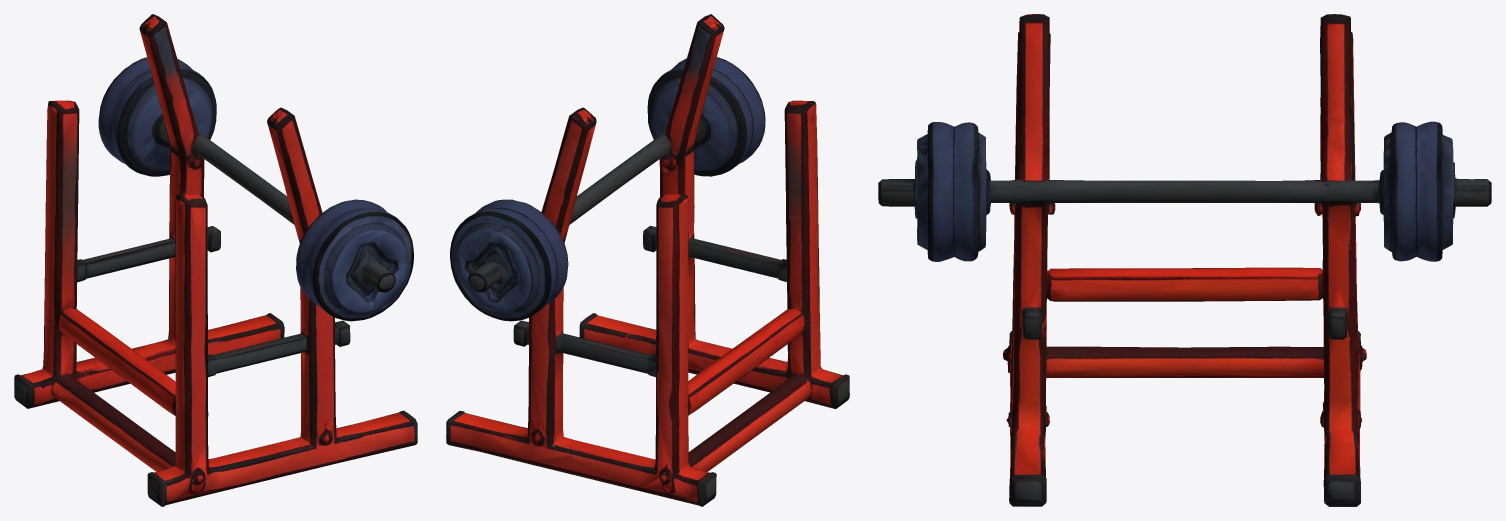
Rendered from squat-rack.glb.
3 views of the same model, side by side, from view 1: azimuth 30°, elevation 25°; view 2: azimuth 150°, elevation 25°; view 3: azimuth 270°, elevation 25° (orthographic). The views are drawn at different scales.
Parts seen in each view (by area): view 1: tripo_node_ce8cd1c8-dbb4-4737-8277-9ef3d8678fc3; view 2: tripo_node_ce8cd1c8-dbb4-4737-8277-9ef3d8678fc3; view 3: tripo_node_ce8cd1c8-dbb4-4737-8277-9ef3d8678fc3.
Part boxes in pixels (x1,y1,x2,y2): tripo_node_ce8cd1c8-dbb4-4737-8277-9ef3d8678fc3: (14, 14, 417, 506); tripo_node_ce8cd1c8-dbb4-4737-8277-9ef3d8678fc3: (446, 14, 849, 506); tripo_node_ce8cd1c8-dbb4-4737-8277-9ef3d8678fc3: (878, 14, 1491, 506).
Bounding box in the file's own units: 0.5806 × 0.76 × 0.9997.
Materials: 1 (1 with a texture image).
